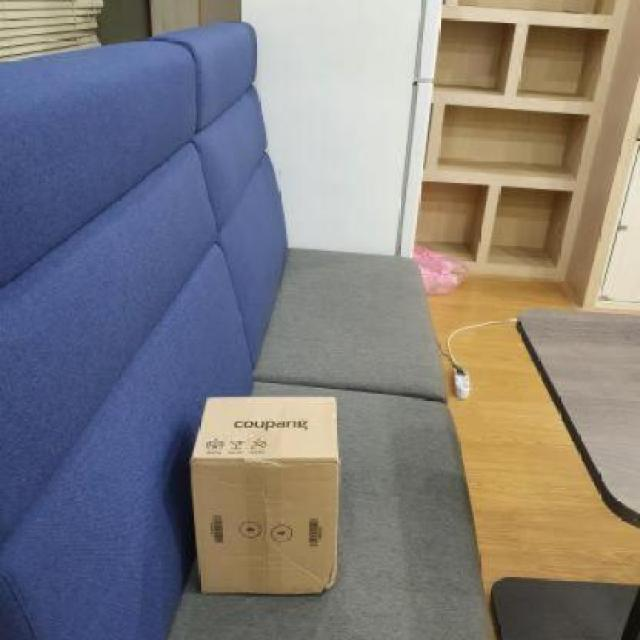box: (182, 377, 368, 606)
